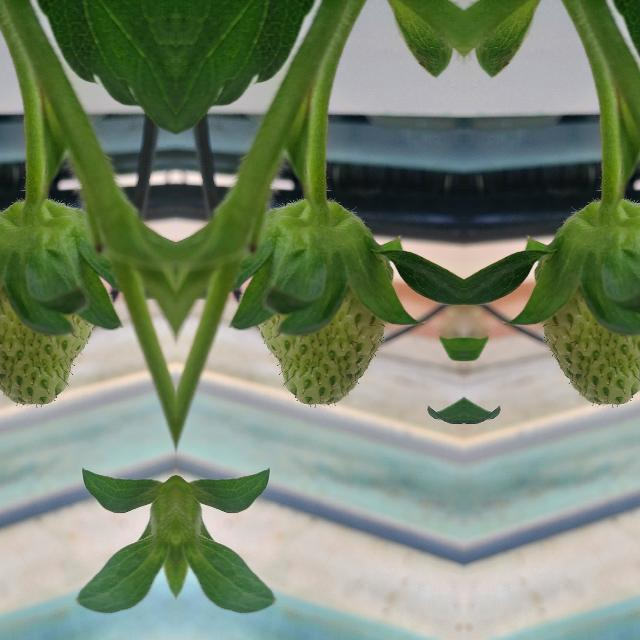Health_25: (254, 283, 386, 409), (540, 283, 640, 409), (0, 283, 95, 409)
